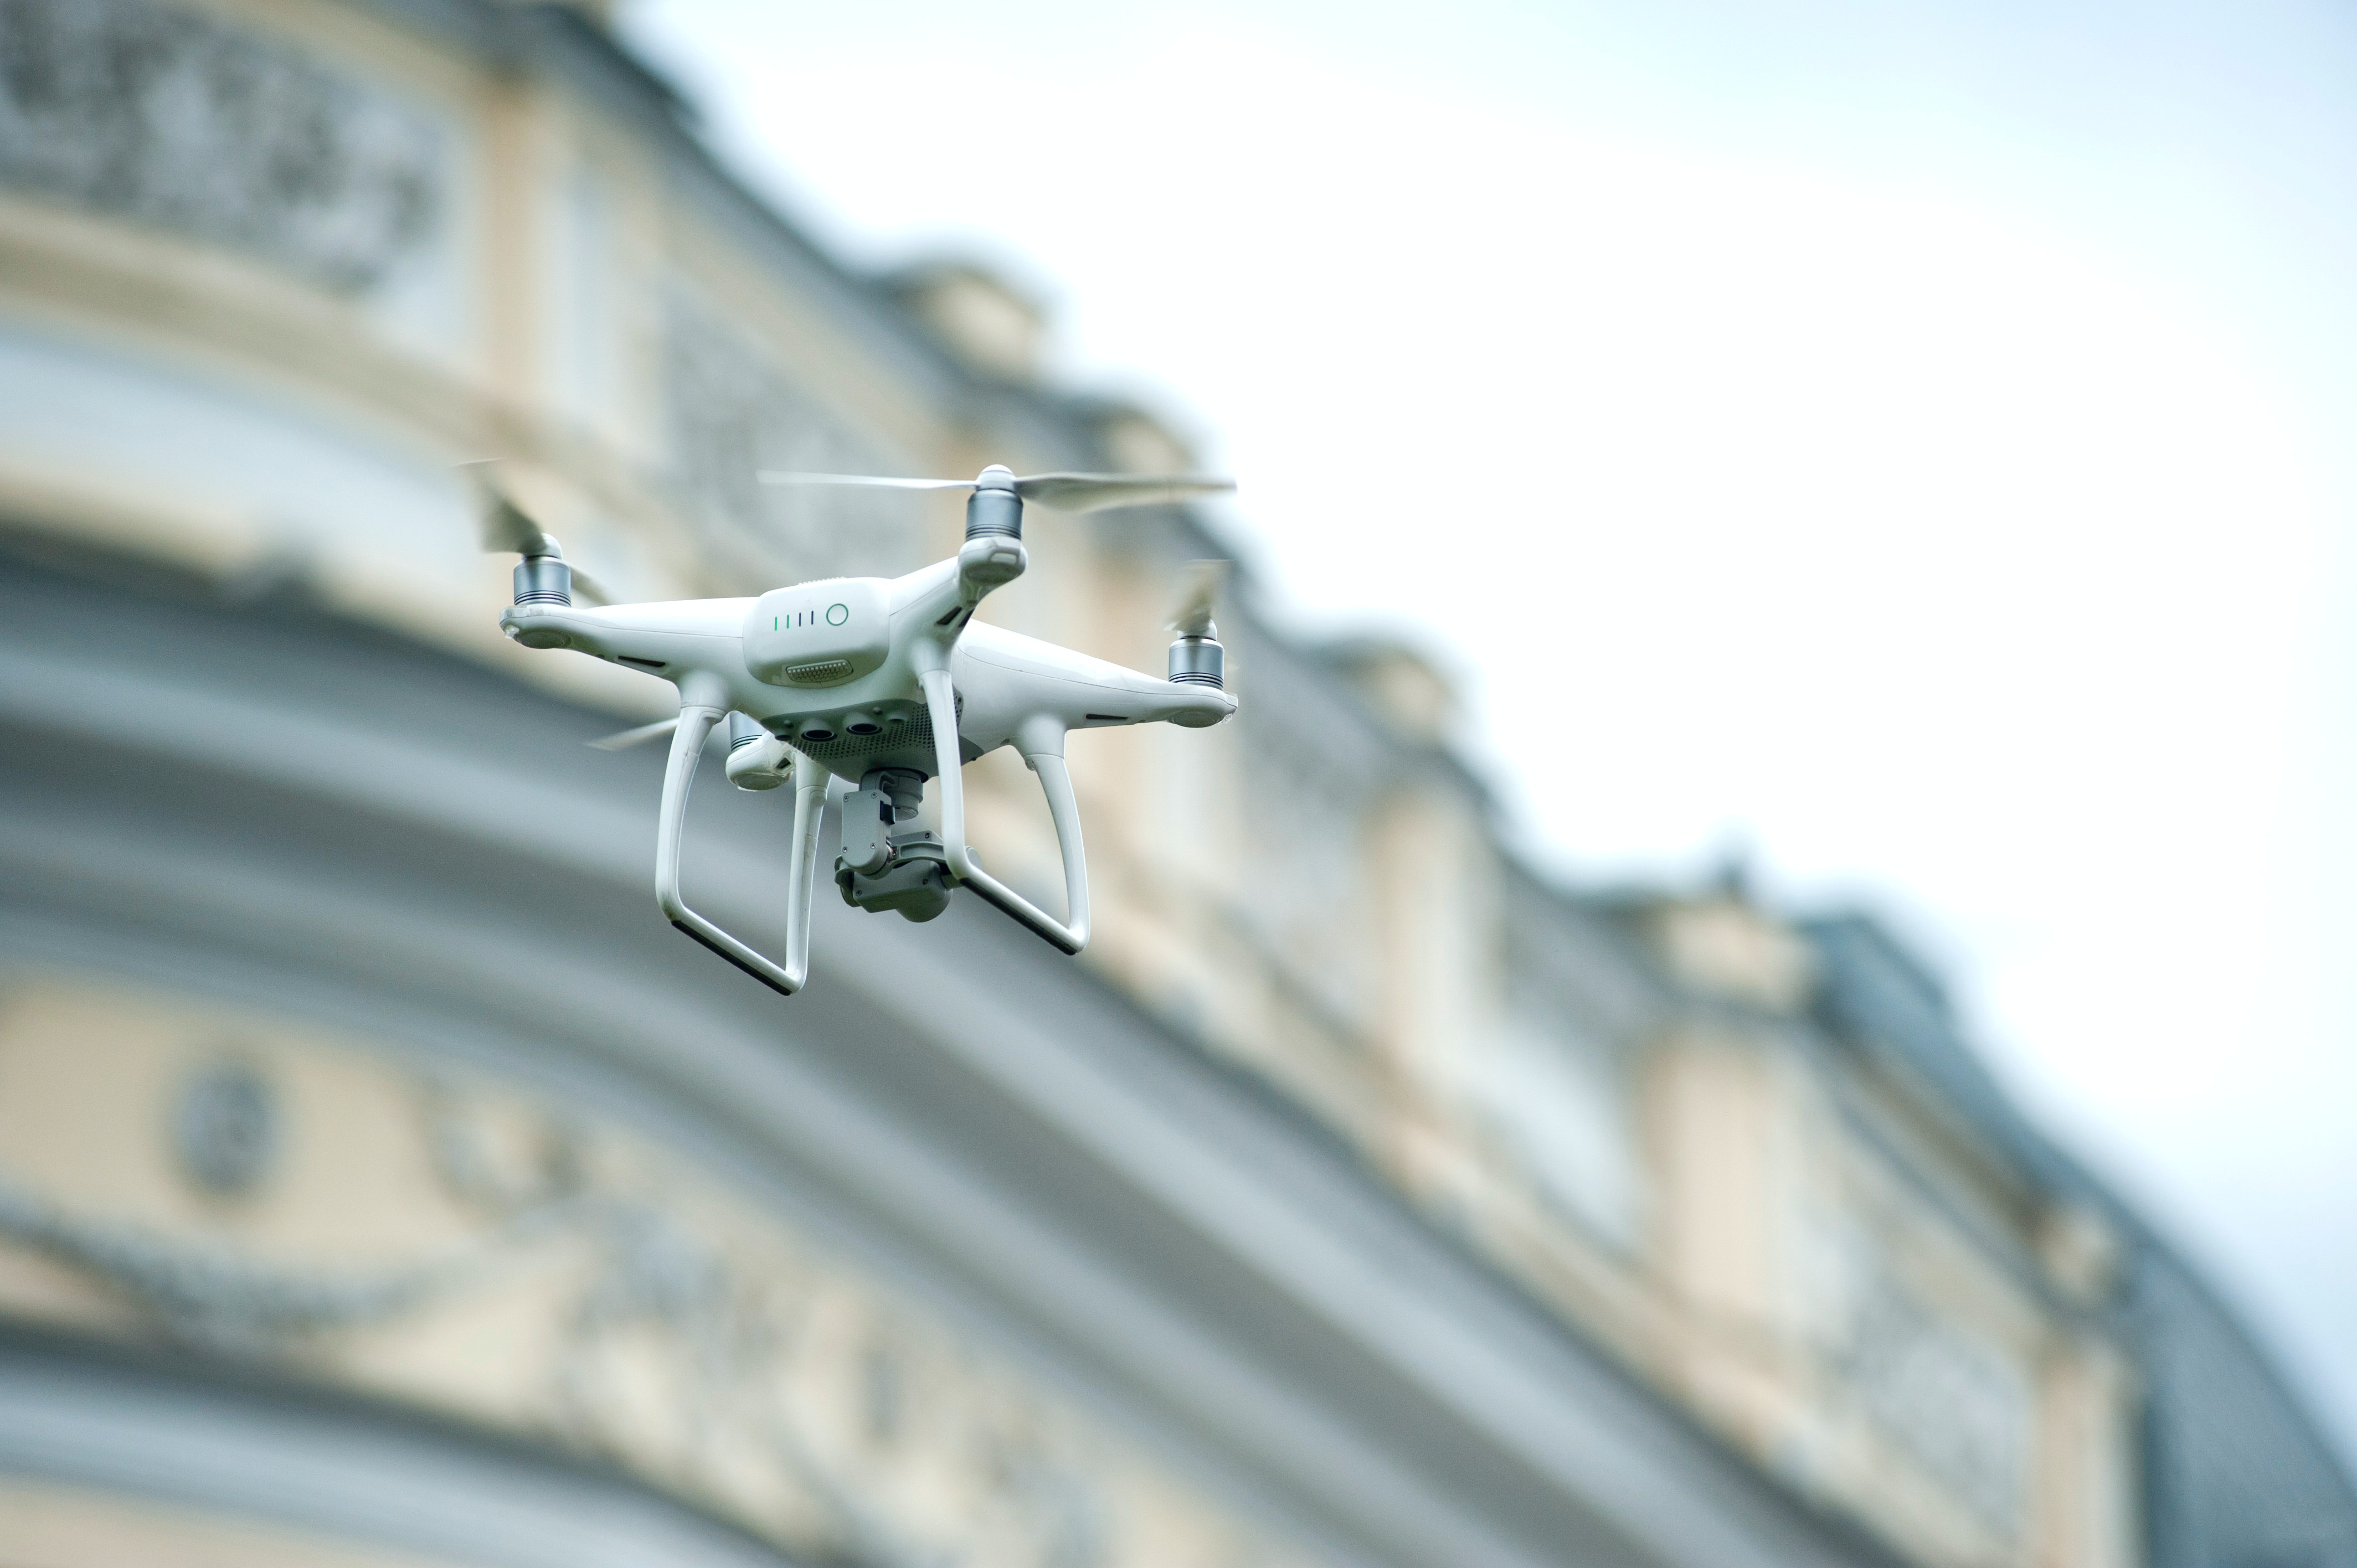drone: (317, 367, 1389, 1031)
